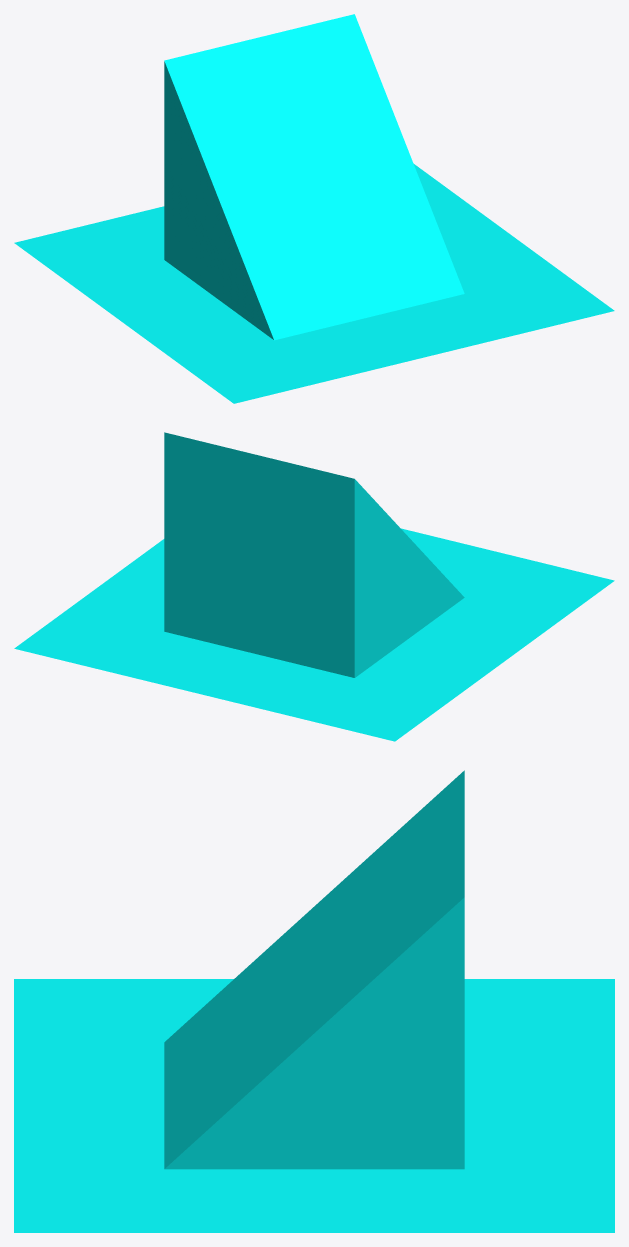
Rendered from lowresolution.obj.
The picture shows the model from 3 angles, top to bottom: view 1: azimuth 30°, elevation 25°; view 2: azimuth 150°, elevation 25°; view 3: azimuth 270°, elevation 25°; orthographic projection. The views are drawn at different scales.
Size of the model in its own units: 16 by 8 by 16.
